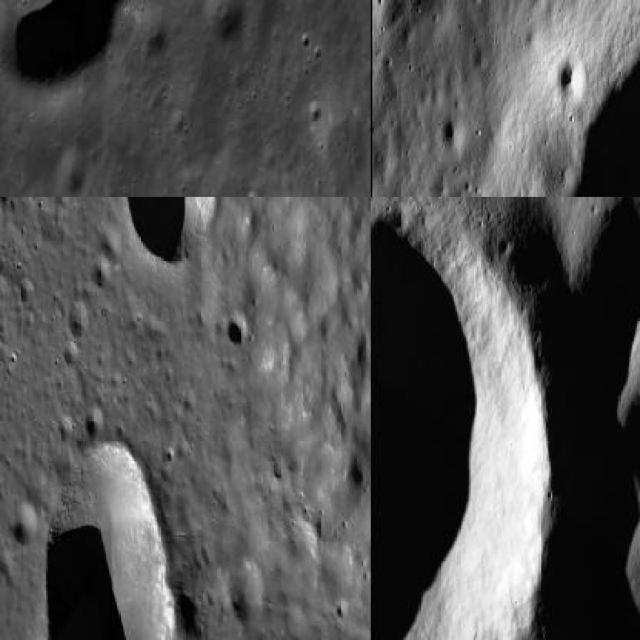crater: (371, 222, 546, 638), (43, 436, 172, 638), (548, 41, 638, 196), (0, 0, 128, 89), (123, 197, 219, 268), (223, 312, 248, 346)
